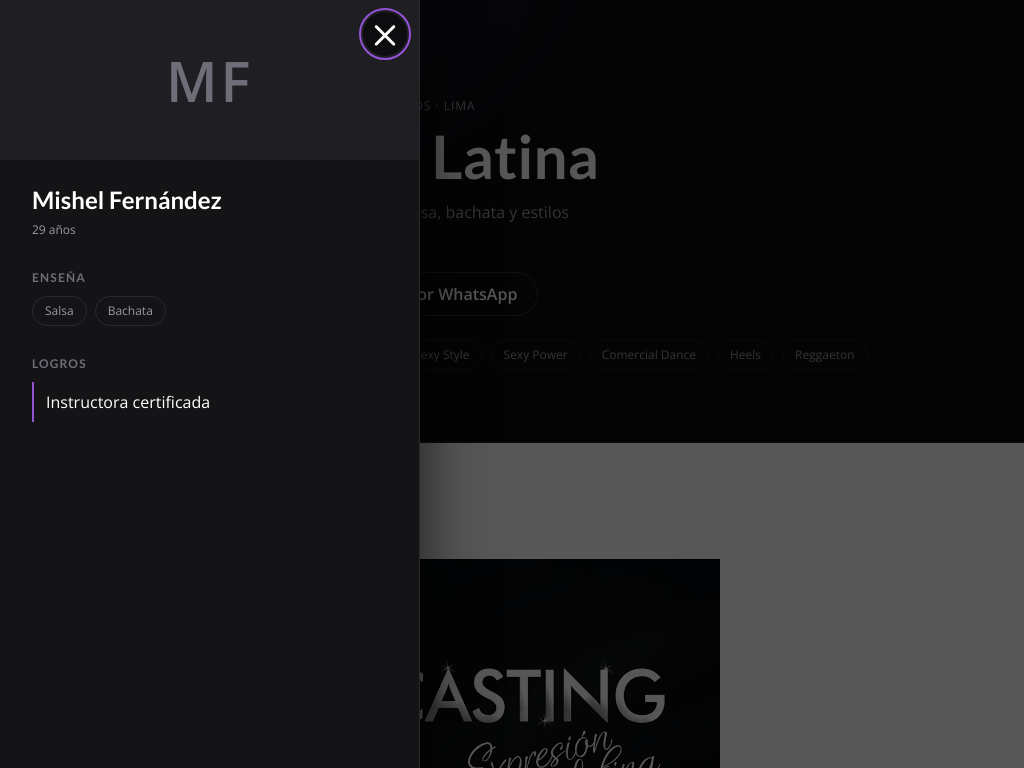
Test: Home opening a teacher over the page › opens a profile reached by a direct link and closes it on Home
The image size is (1024, 768).
expect the dialog "Mishel Fernández" is shown: met, box [0, 0, 420, 767]
Click the button named "Cerrar".
click(385, 34)  # box [363, 12, 407, 56]
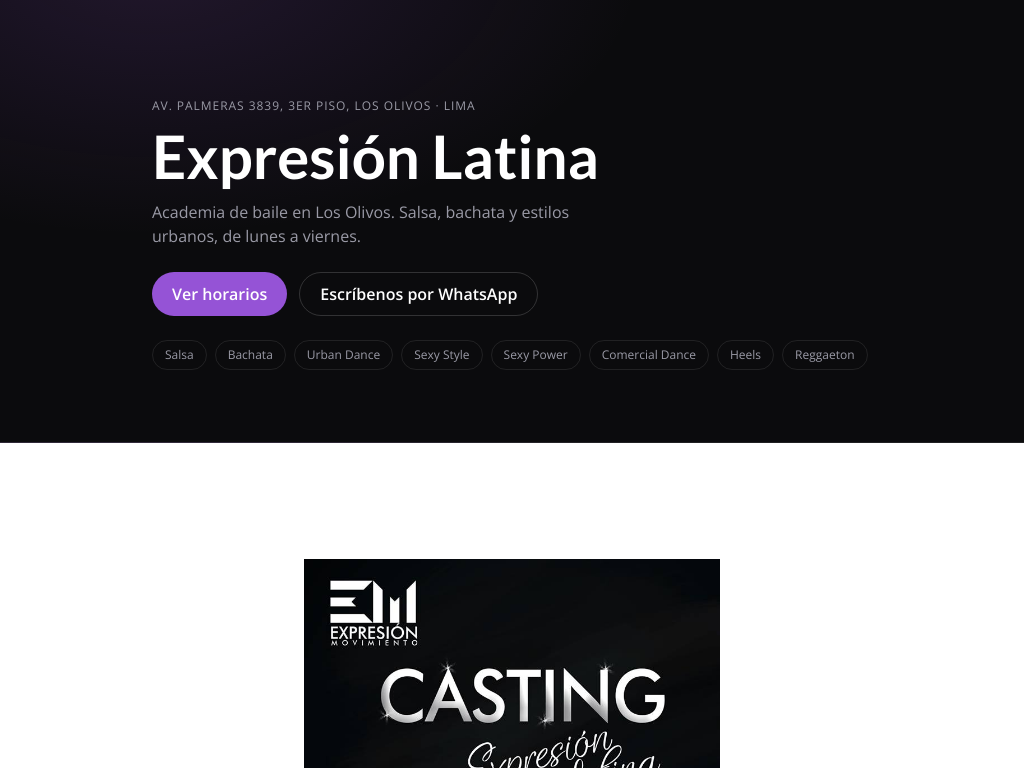
expect the dialog is gone: met
